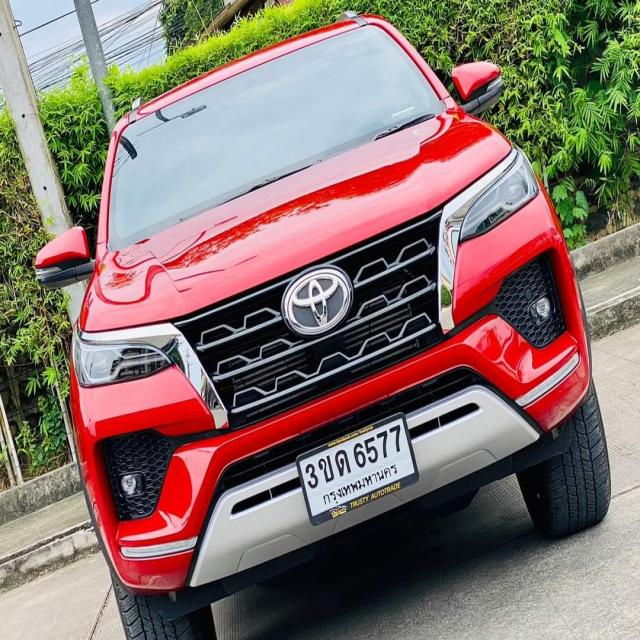license_plate: (293, 412, 421, 530)
